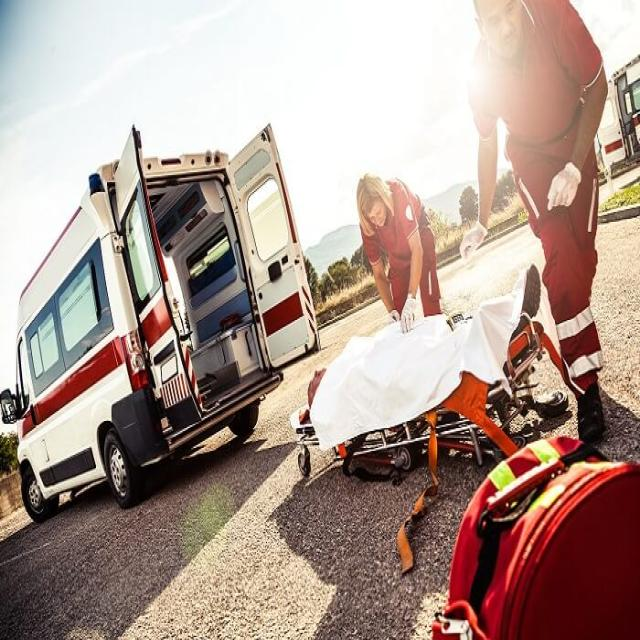emergency: (0, 128, 319, 520)
